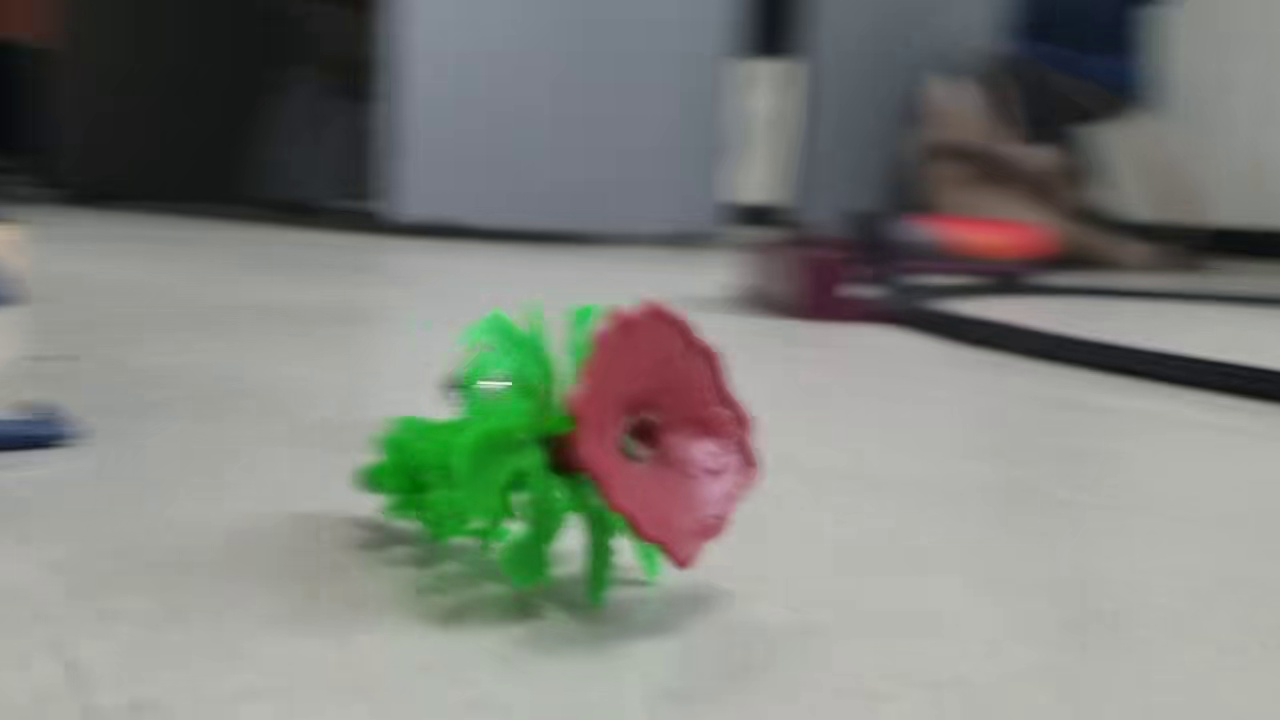tree: (352, 293, 764, 628)
